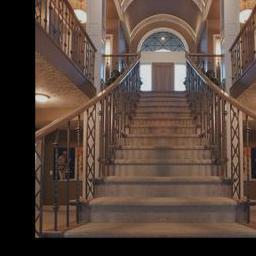Escaleras: (39, 54, 256, 235)
